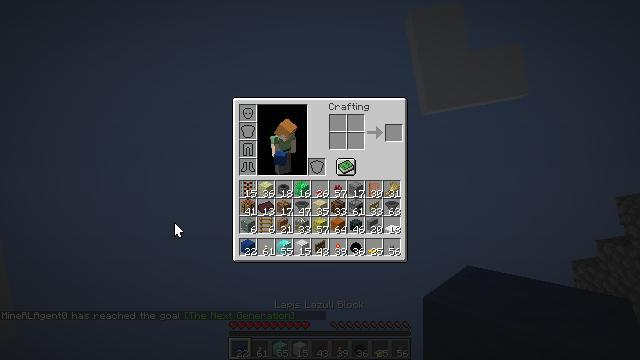cursor: (174, 222, 184, 238)
